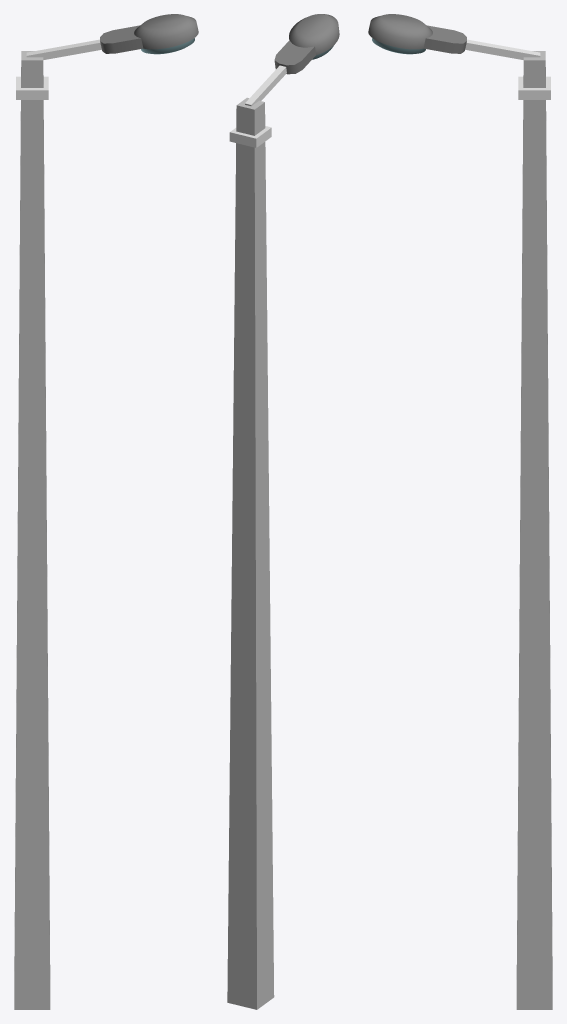
Rendered from Lamp post.fbx.
3 renders of one model, left to right at view 1: azimuth 90°, elevation 25°; view 2: azimuth 150°, elevation 25°; view 3: azimuth 270°, elevation 25°, orthographic. The views are drawn at different scales.
Visible parts, largest first — view 1: Lamp post; view 2: Lamp post; view 3: Lamp post.
Part boxes in pixels (box(x1,y1,x2,y2)): Lamp post: box(14, 14, 198, 1009); Lamp post: box(227, 14, 339, 1009); Lamp post: box(368, 14, 552, 1009).
Bounding box in the file's own units: 154 × 3433 × 583.
